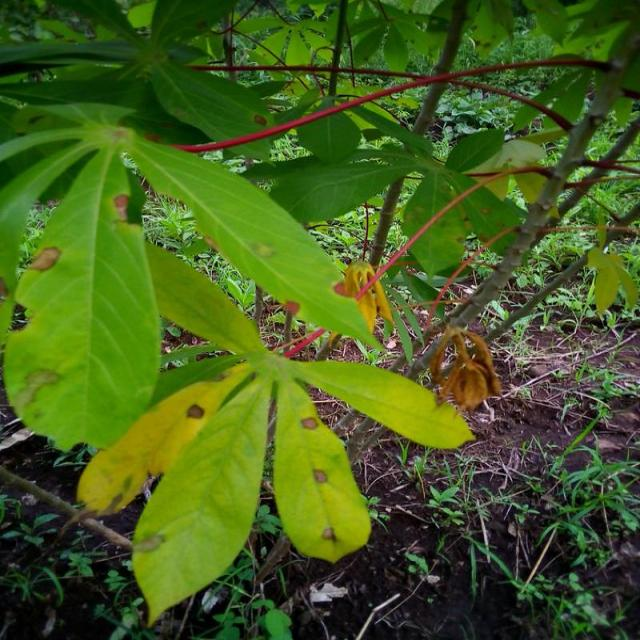cassava leaf: (4, 132, 162, 454), (130, 361, 274, 627), (274, 374, 372, 564)
